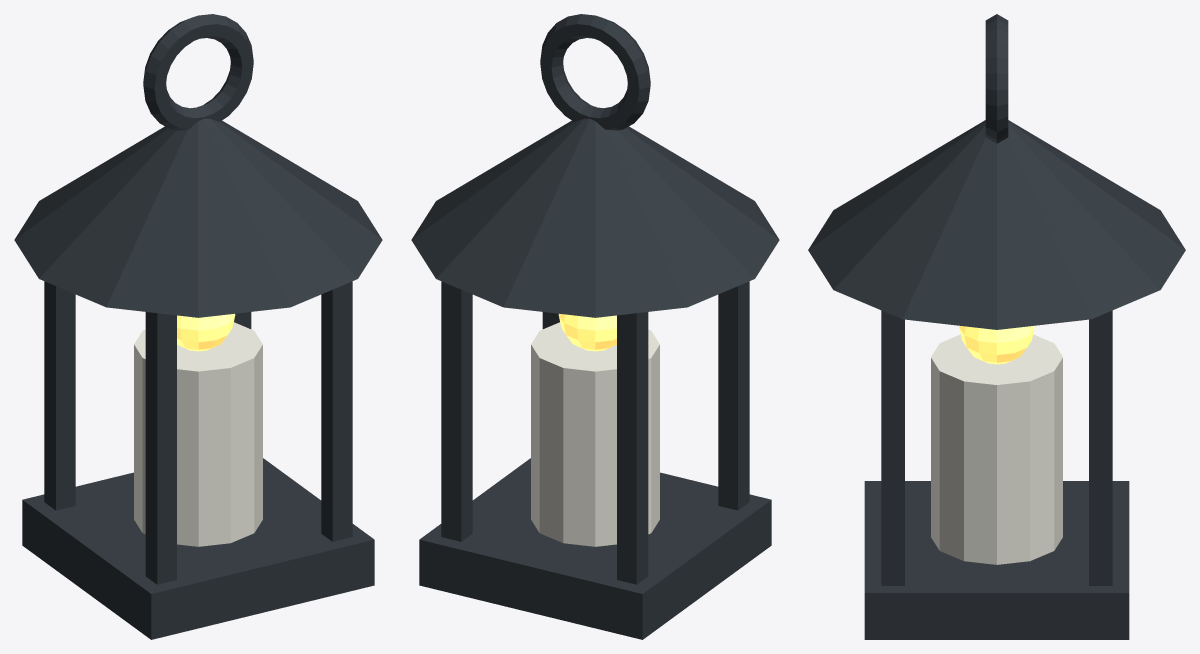
The model's file is three-d-christmas-village-christmas-village-candle-lantern-541e1cf2.glb.
3 renders of one model, left to right at view 1: azimuth 30°, elevation 25°; view 2: azimuth 150°, elevation 25°; view 3: azimuth 270°, elevation 25°, orthographic. The views are drawn at different scales.
Visible parts, largest first — view 1: candle-lantern; view 2: candle-lantern; view 3: candle-lantern.
Part boxes in pixels (bbox=[...]): candle-lantern: bbox=[14, 14, 382, 639]; candle-lantern: bbox=[411, 14, 779, 639]; candle-lantern: bbox=[808, 14, 1185, 639].
Size of the model in its own units: 0.4 by 0.659 by 0.4.
